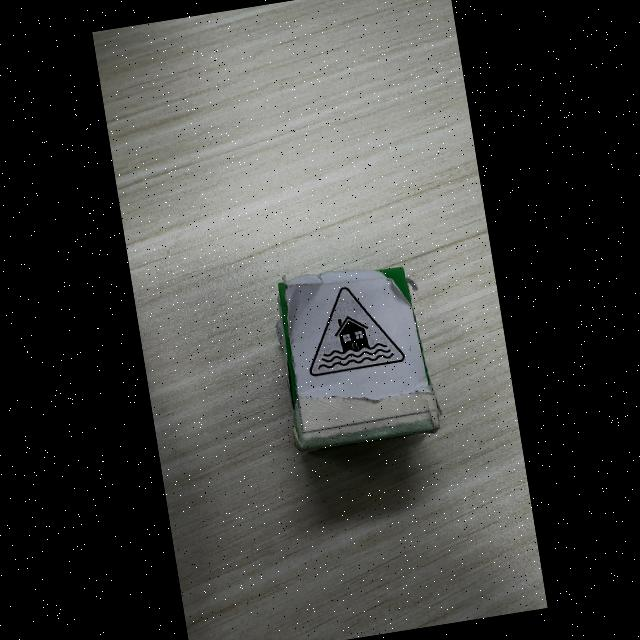Tsunami: (310, 288, 404, 376)
